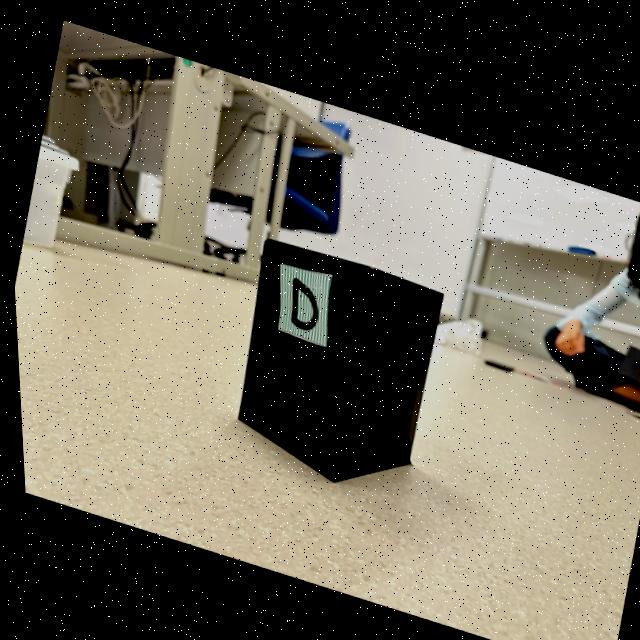D: (287, 272, 315, 324)
